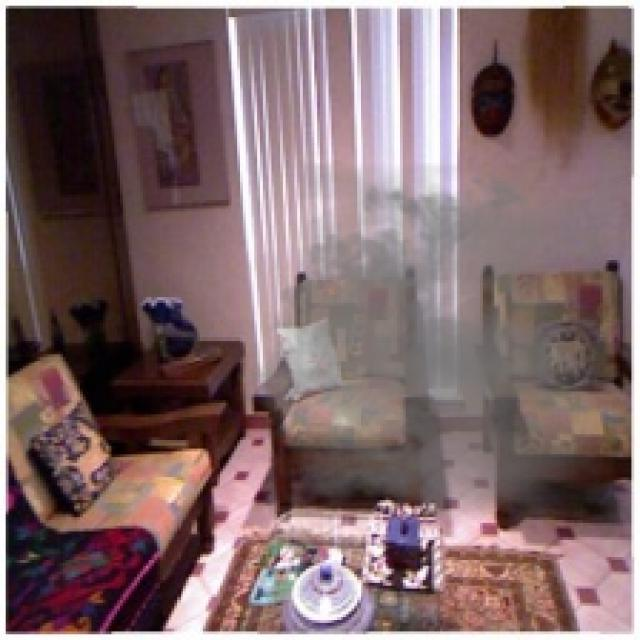smoke: (235, 163, 614, 523)
